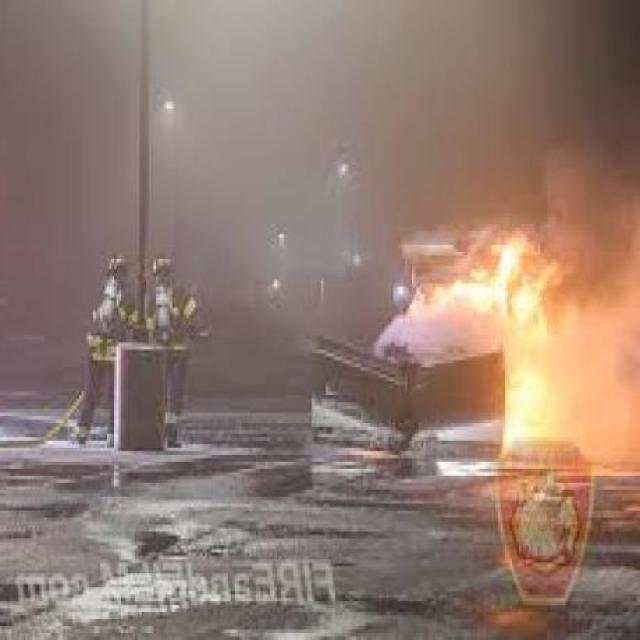Fire: (414, 213, 566, 467)
Smoke: (184, 8, 640, 202), (238, 153, 386, 344), (568, 174, 638, 291)
